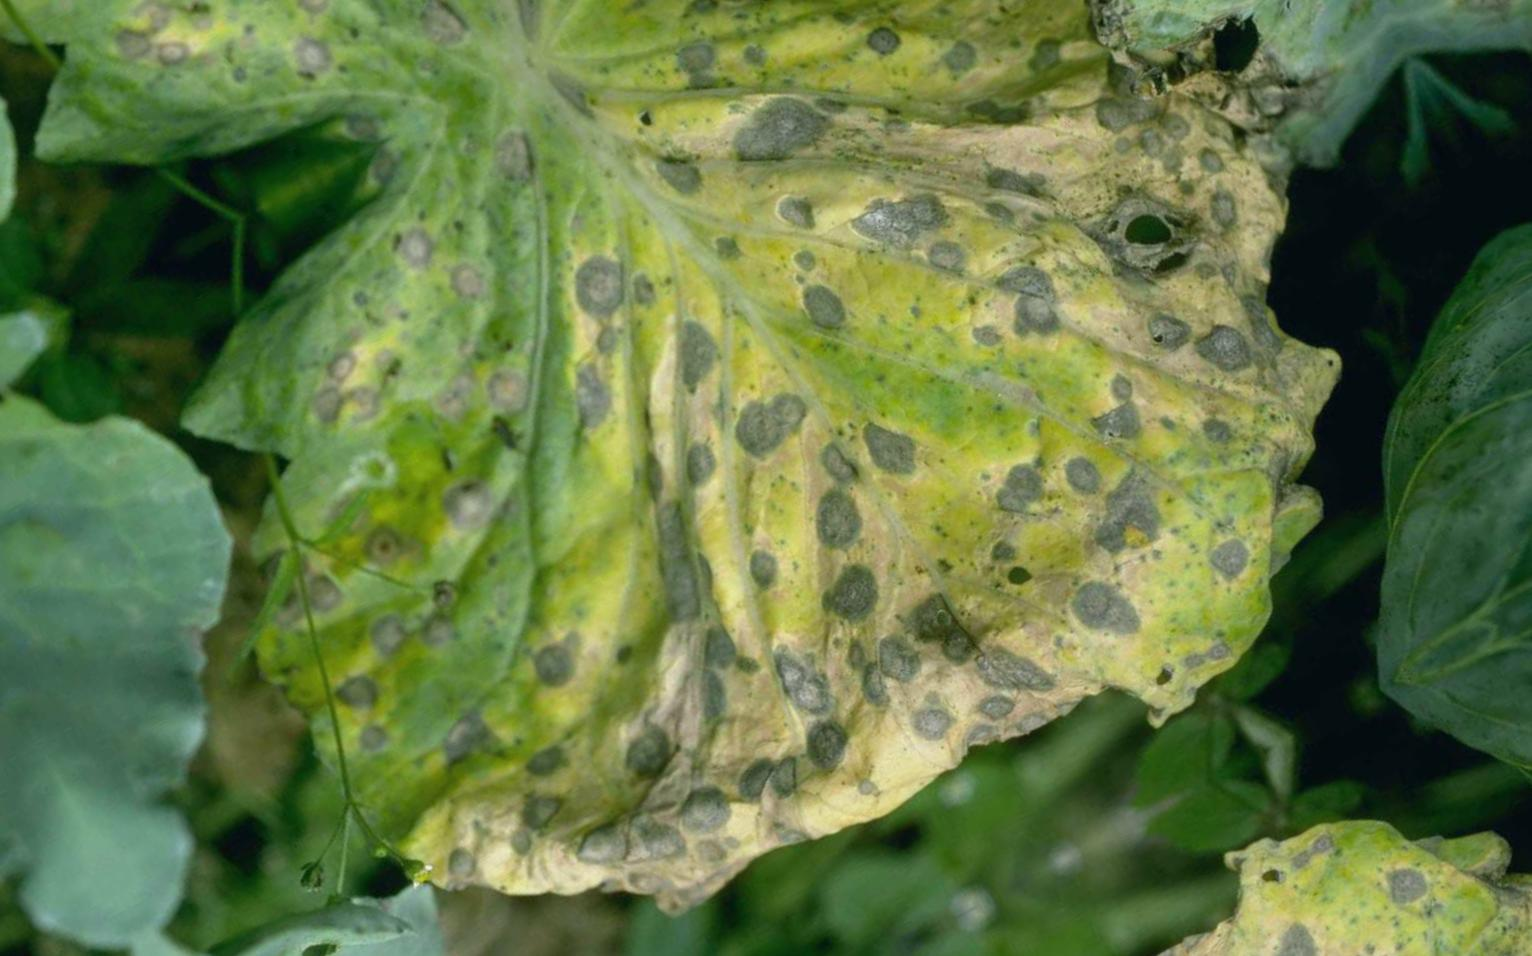Tomato leaf bacterial spot: (44, 0, 1498, 956)
